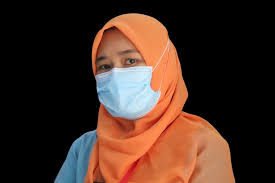with_mask: (95, 31, 159, 117)
